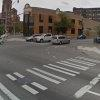Crosswalk: (1, 52, 97, 100)
